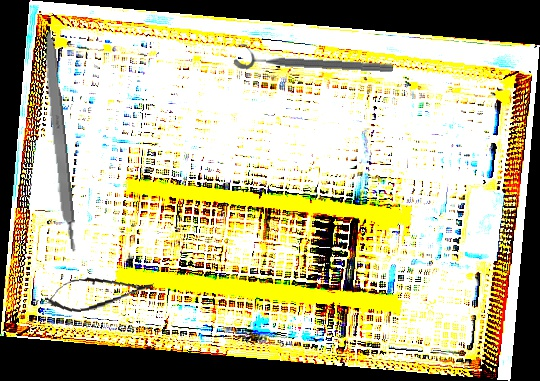Fixation Ring: (233, 41, 394, 78)
Micro Scissor: (43, 269, 157, 316)
Scalpel Handle: (39, 25, 78, 254)
